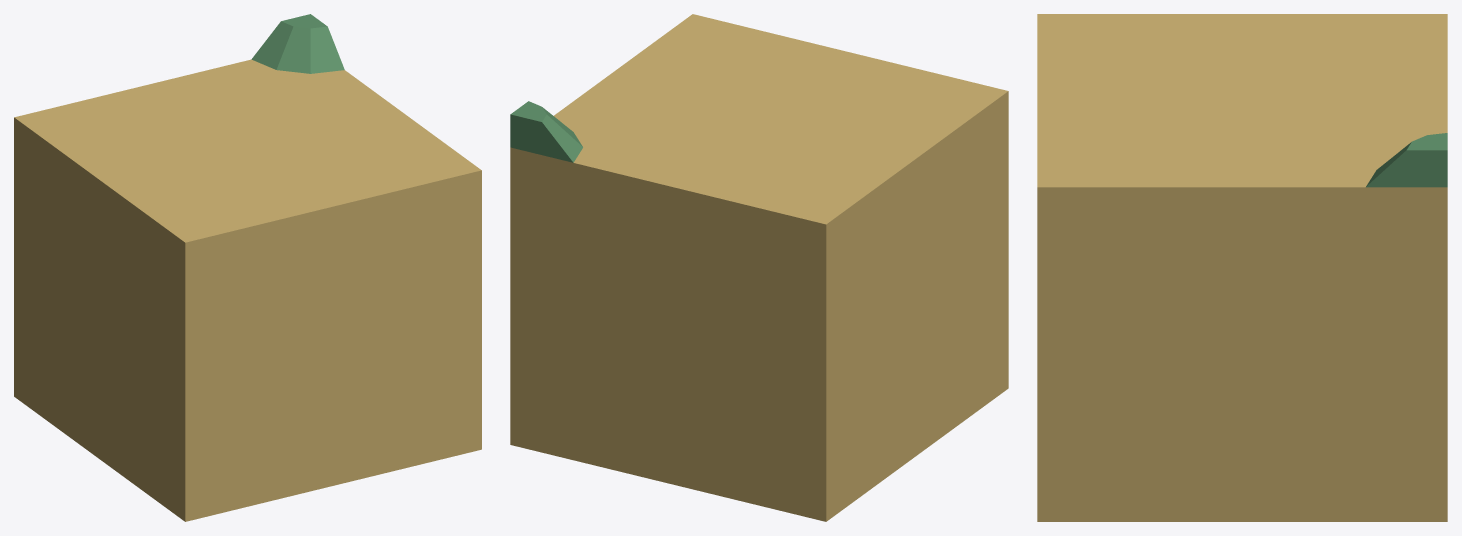
File: path-corner-inner.glb
3 views of the same model, side by side, from view 1: azimuth 30°, elevation 25°; view 2: azimuth 150°, elevation 25°; view 3: azimuth 270°, elevation 25° (orthographic). The views are drawn at different scales.
Parts seen in each view (by area): view 1: Path - Corner Inner; view 2: Path - Corner Inner; view 3: Path - Corner Inner.
Boxes of the visible parts, <box> form: Path - Corner Inner: <box>14,14,481,521</box>; Path - Corner Inner: <box>510,14,1008,521</box>; Path - Corner Inner: <box>1037,14,1447,521</box>.
Bounding box in the file's own units: 1 × 1 × 1.
